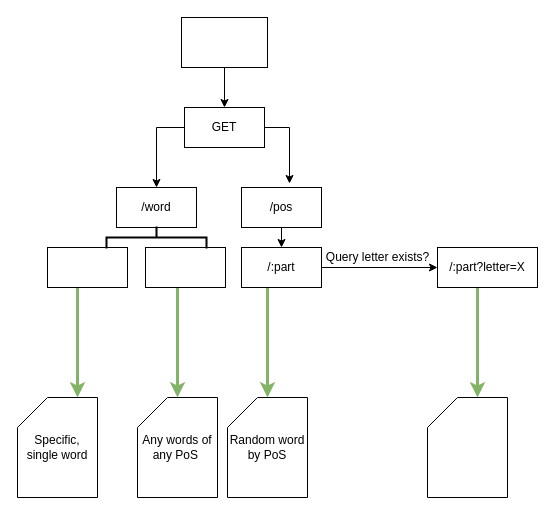
This 555x515 diagram has some shape labels left out. The shapes that lost their labels are listed below. From the top down, each one's centre as x and y in pixels, then its label:
At point (224, 42): "API".
At point (87, 267): "/:word/:pos".
At point (185, 267): "/:word".
At point (467, 447): "Random word by PoS with beginning letter".
